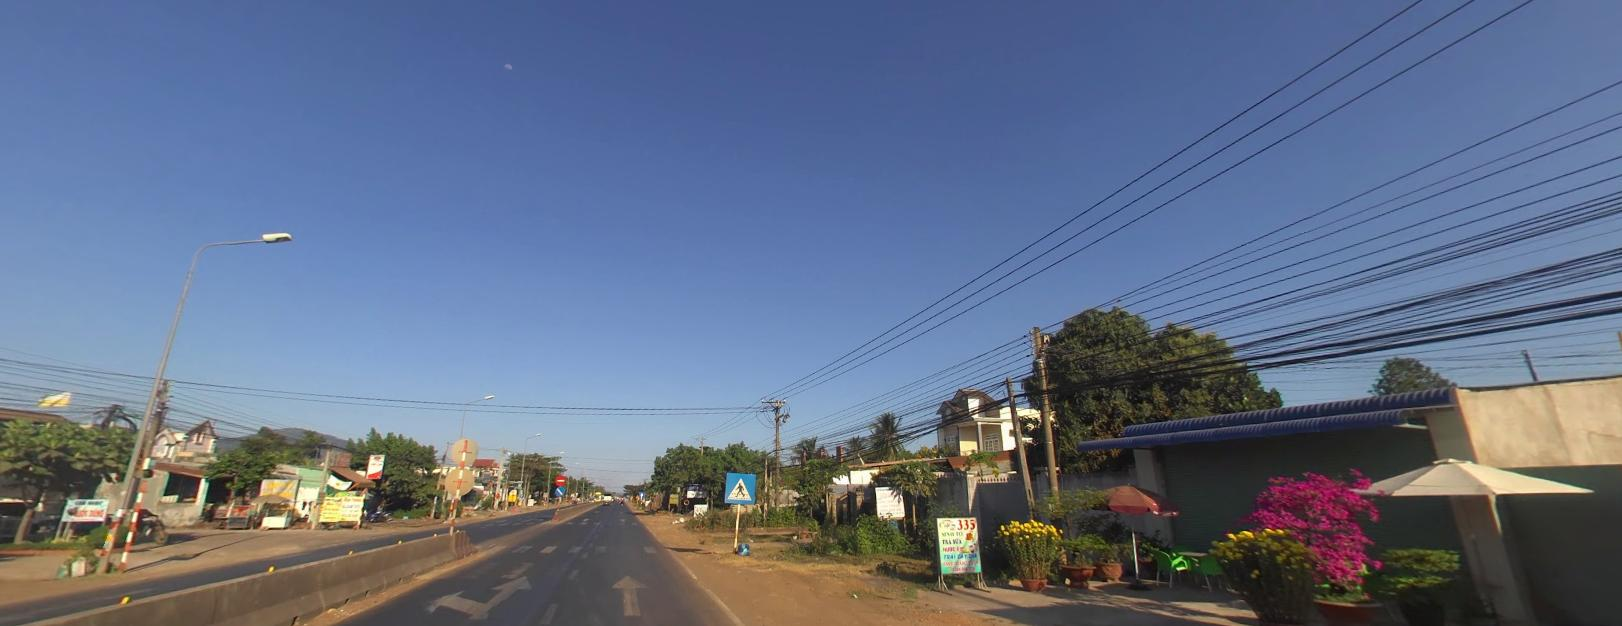Cam nguoc chieu: (555, 473, 566, 484)
Hieu lenh: (554, 485, 565, 495)
